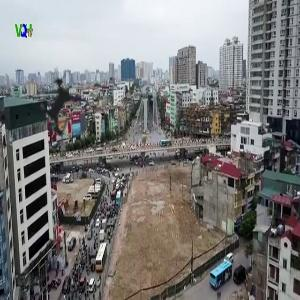drone: (1, 48, 125, 172)
